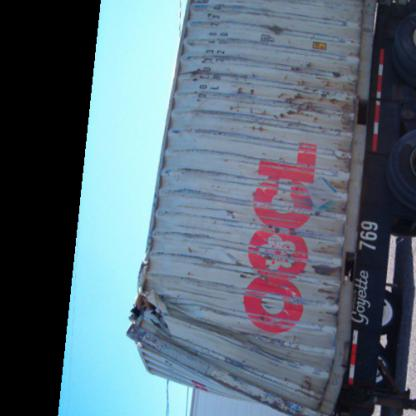Damage: (226, 12, 361, 402), (127, 262, 199, 373)
